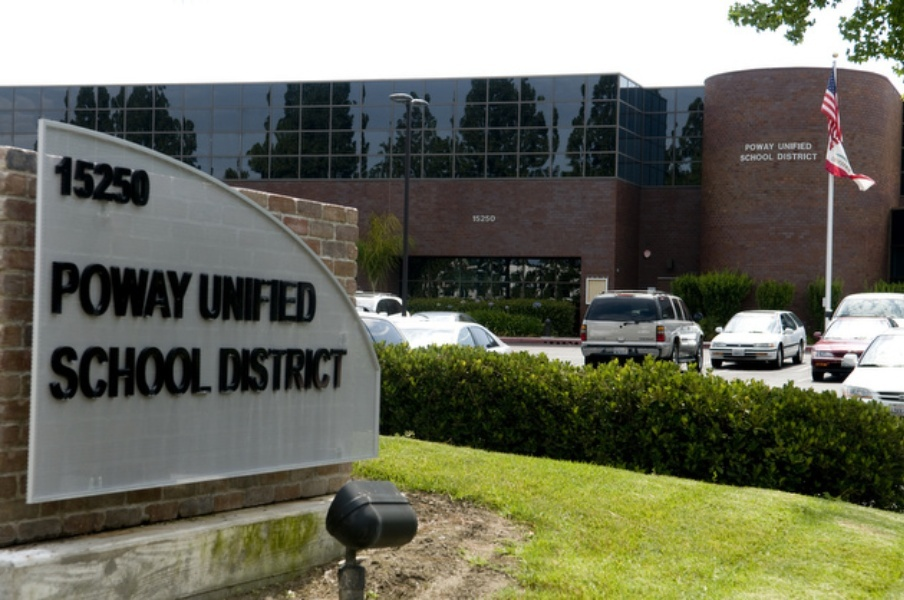text: (49, 259, 64, 323), (65, 259, 80, 323), (81, 259, 96, 323), (97, 259, 112, 323), (113, 259, 128, 323), (129, 259, 144, 323), (145, 259, 160, 323), (161, 259, 176, 323), (177, 259, 192, 323), (49, 344, 64, 402), (65, 344, 80, 402), (81, 344, 96, 402), (97, 344, 112, 402), (113, 344, 128, 402), (129, 344, 144, 402), (145, 344, 160, 402), (161, 344, 176, 402), (177, 344, 192, 402), (193, 344, 208, 402), (65, 153, 80, 209), (81, 153, 96, 209), (97, 153, 112, 209), (113, 153, 128, 209), (129, 153, 144, 209), (209, 270, 224, 325), (225, 270, 240, 325), (241, 270, 256, 325), (257, 270, 272, 325), (273, 270, 288, 325), (289, 270, 304, 325), (305, 270, 320, 325), (225, 345, 240, 398), (241, 345, 256, 398), (257, 345, 272, 398), (273, 345, 288, 398), (289, 345, 304, 398), (305, 345, 320, 398), (321, 345, 336, 398), (197, 270, 208, 325), (337, 345, 348, 398), (54, 153, 64, 209), (214, 345, 224, 398), (145, 153, 153, 209), (209, 344, 213, 402), (193, 259, 196, 323), (45, 344, 48, 402), (785, 141, 800, 151), (481, 214, 496, 223), (753, 143, 768, 151), (801, 141, 813, 151), (753, 153, 768, 161), (801, 153, 817, 160), (785, 153, 800, 160), (739, 153, 752, 161), (471, 214, 480, 223), (777, 141, 784, 151), (744, 143, 752, 151), (777, 153, 784, 160), (769, 143, 775, 151), (769, 153, 772, 161)
